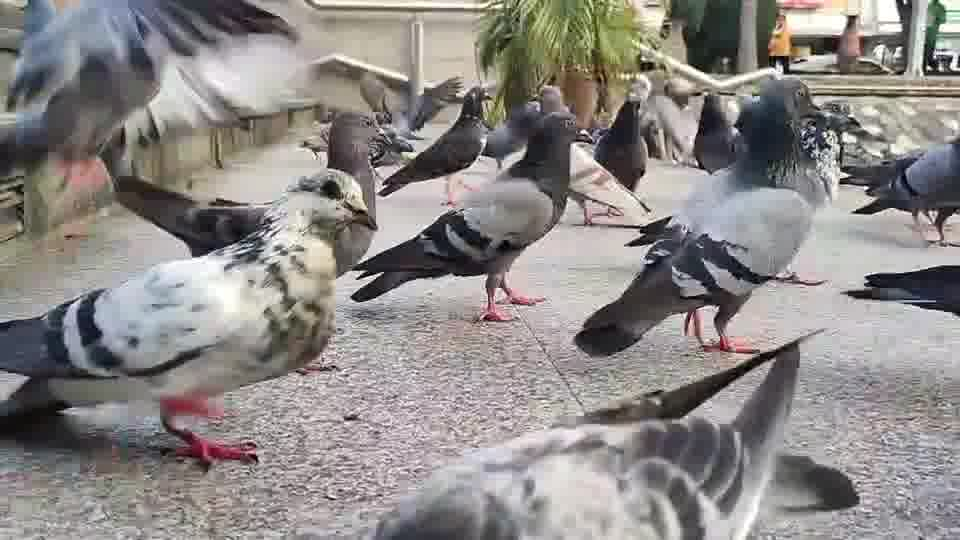Pigeon: (0, 165, 376, 468), (371, 326, 858, 538), (574, 76, 836, 357), (348, 110, 595, 322), (376, 84, 494, 206), (840, 134, 959, 246), (840, 263, 959, 318)
